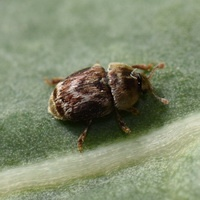insect: (48, 63, 164, 150)
